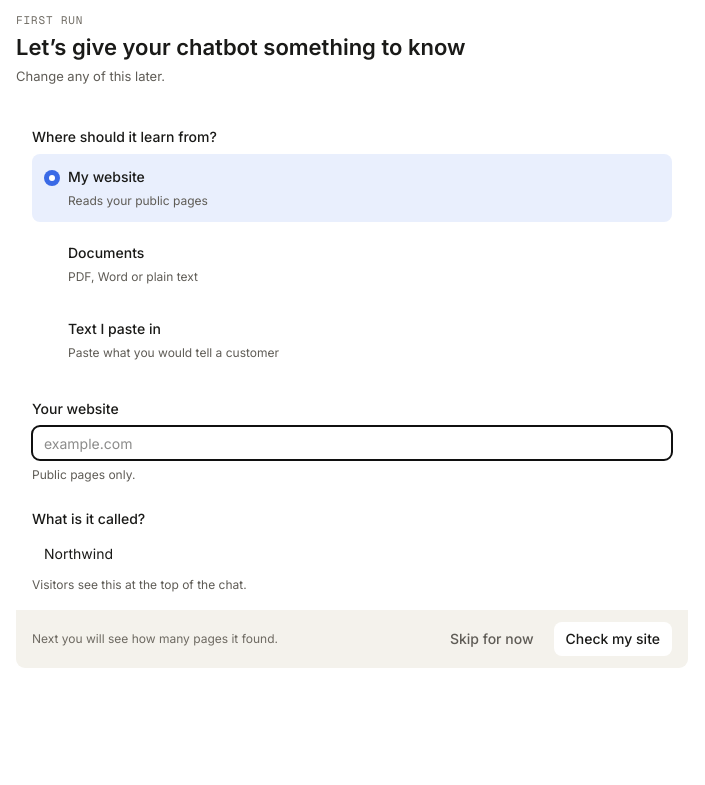
Scenario: FirstRunPage › explains a plan limit instead of failing silently
This screenshot has width=705, height=785.
Type "acme.com" into the field labelled "Your website" at (352, 443), box [32, 426, 672, 460]
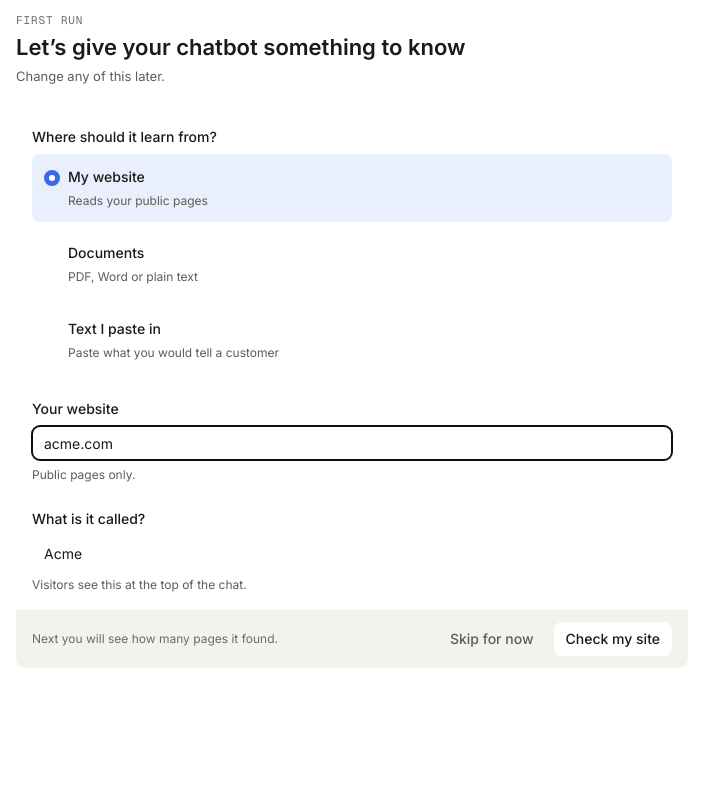
Click the button "Check my site" at (613, 639), box [554, 622, 672, 656]
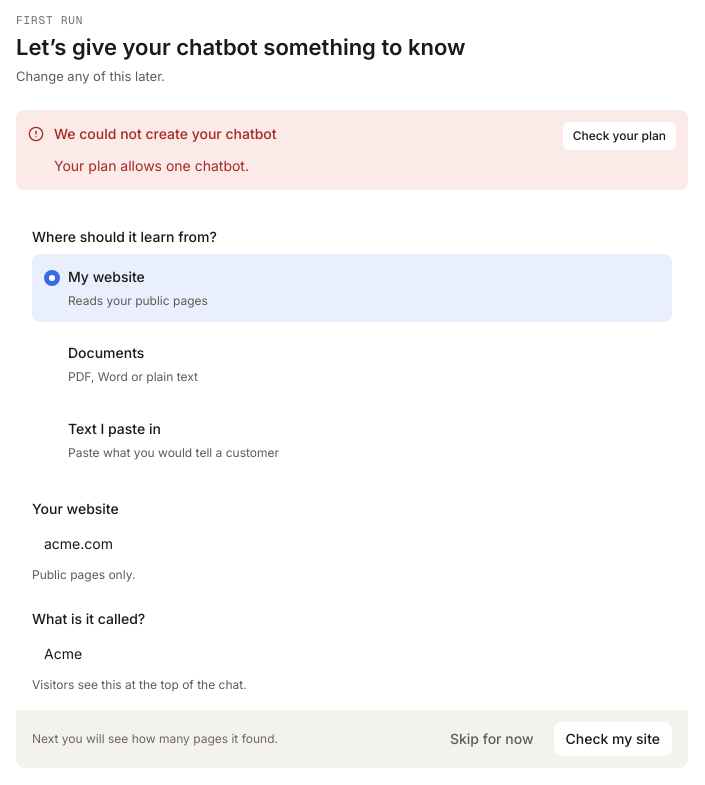
Expected: the text "Your plan allows one chatbot." is shown, [54, 157, 249, 174]
